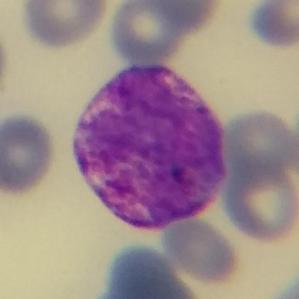Basophil: (64, 54, 236, 236)
RBC: (219, 156, 299, 245), (90, 241, 206, 299), (106, 0, 205, 64), (160, 214, 244, 286), (220, 107, 298, 179), (0, 111, 59, 198), (18, 0, 111, 50), (245, 0, 299, 49), (146, 0, 225, 31), (266, 267, 298, 299), (0, 16, 11, 106)
